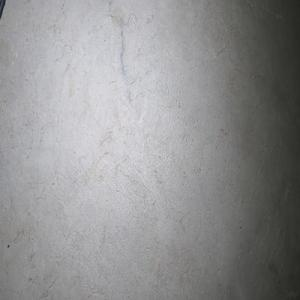Wire: (0, 0, 8, 29)
